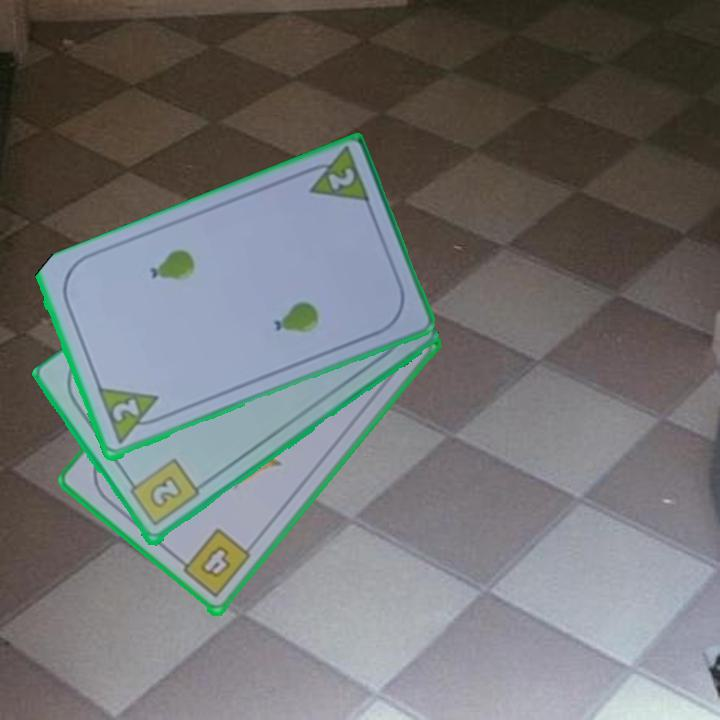2b: (123, 456, 202, 530)
2p: (297, 146, 374, 208), (94, 384, 168, 448)
4b: (173, 525, 254, 602)
